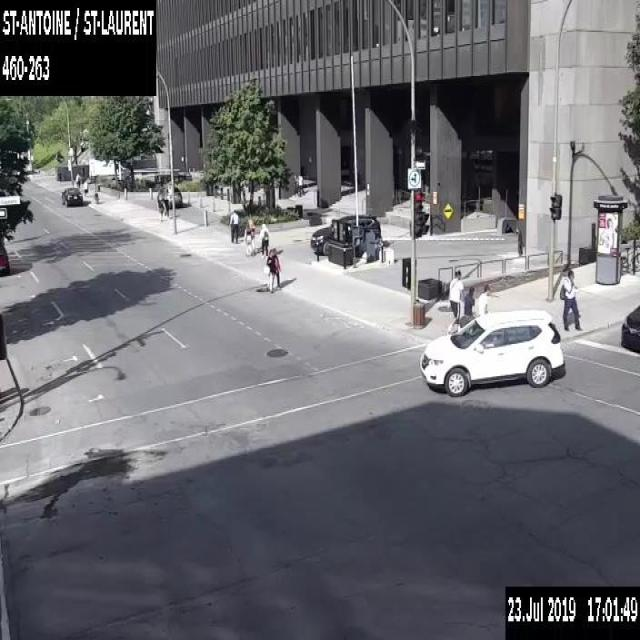pedestrian: (559, 269, 582, 331), (446, 268, 464, 333), (462, 285, 475, 324), (477, 282, 491, 315), (266, 248, 274, 292), (272, 246, 280, 286), (229, 208, 238, 243), (260, 222, 268, 258), (243, 222, 252, 254), (248, 217, 256, 251), (163, 194, 170, 222), (158, 194, 164, 222), (297, 172, 304, 195), (83, 180, 88, 200), (75, 170, 80, 188)
vehicle: (419, 306, 566, 398), (310, 213, 381, 255), (620, 303, 639, 353), (157, 185, 181, 206), (61, 186, 83, 206), (0, 246, 10, 274)
